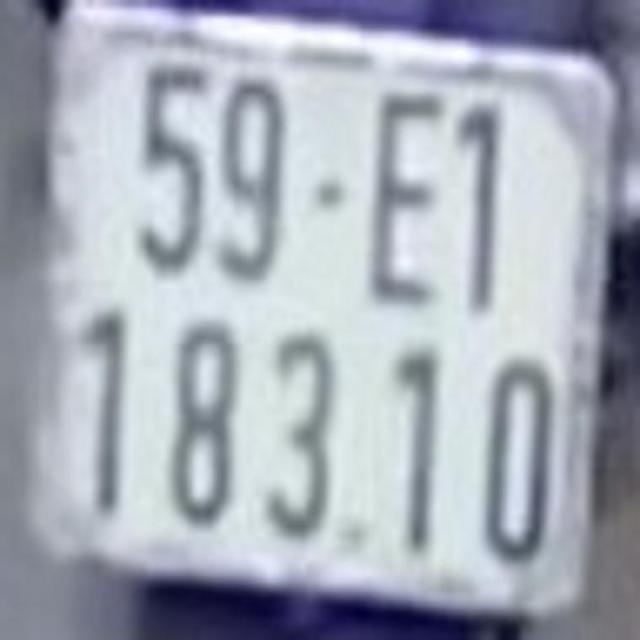0: (477, 320, 559, 579)
1: (445, 90, 522, 313), (385, 333, 455, 558), (67, 300, 136, 522)
3: (258, 303, 337, 547)
5: (135, 52, 206, 278)
8: (166, 301, 236, 534)
9: (213, 44, 289, 286)
E: (370, 78, 444, 308)
